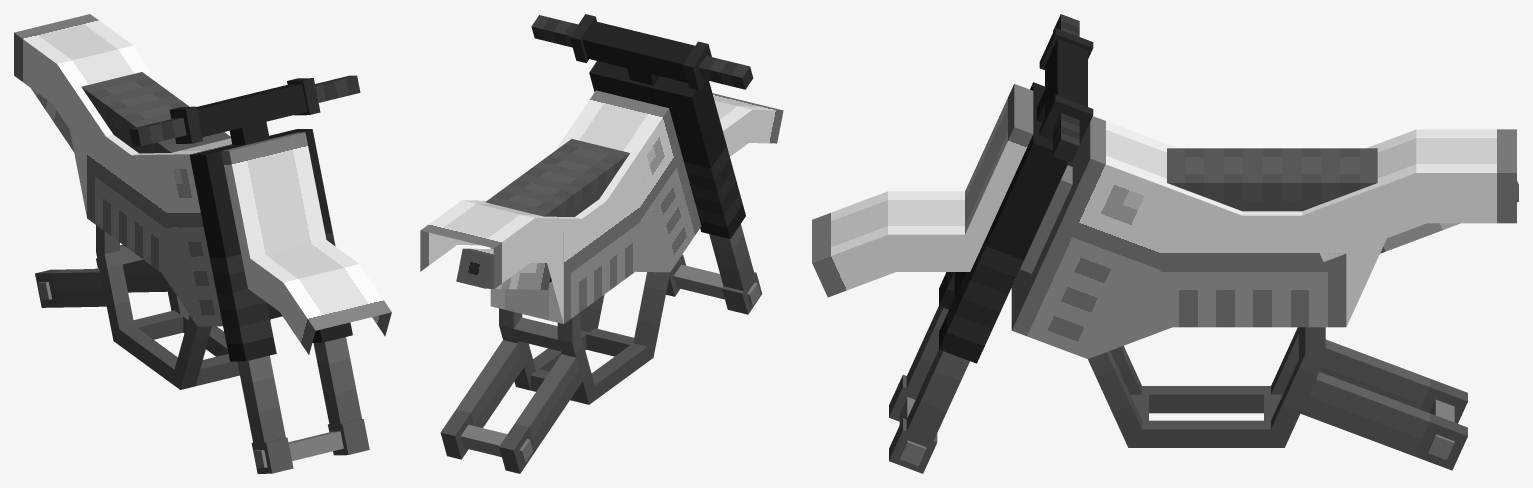
Rendered from dirt_bike_body.gltf.
3 renders of one model, left to right at view 1: azimuth 30°, elevation 25°; view 2: azimuth 150°, elevation 25°; view 3: azimuth 270°, elevation 25°, orthographic. The views are drawn at different scales.
Visible parts, largest first — view 1: cube (×37), Seat; view 2: cube (×38), Seat; view 3: cube (×32), Seat.
Part boxes in pixels (x1=…): cube (×37): x1=14, y1=14, x2=391, y2=473; Seat: x1=81, y1=72, x2=230, y2=153; cube (×38): x1=420, y1=14, x2=783, y2=473; Seat: x1=485, y1=139, x2=629, y2=216; cube (×32): x1=812, y1=39, x2=1518, y2=473; Seat: x1=1167, y1=148, x2=1377, y2=211.
Bounding box in the file's own units: 0.9 × 1.29 × 2.15.
Materials: 5 (1 with a texture image).
